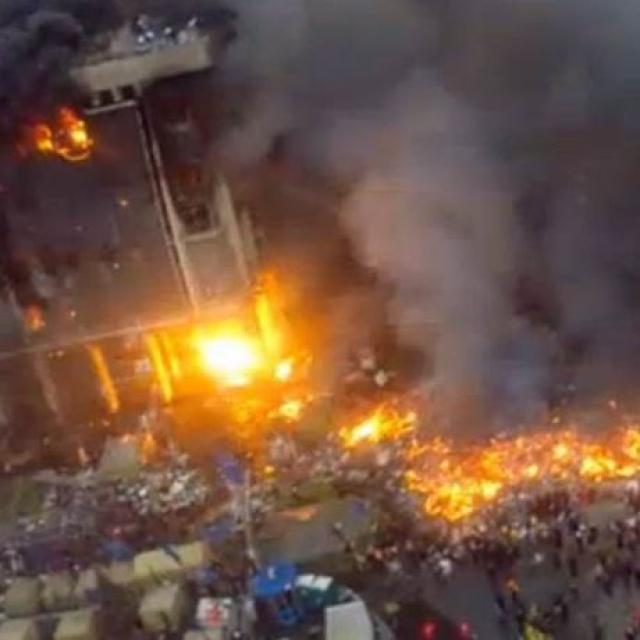Fire: (290, 391, 640, 506), (175, 310, 269, 392), (26, 115, 94, 163), (272, 344, 323, 384)
Smoke: (204, 14, 640, 419), (0, 0, 82, 114)
